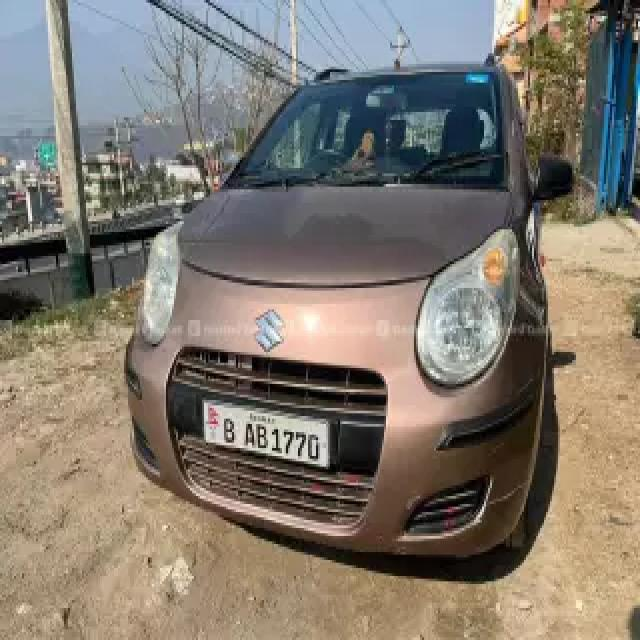License-plate: (200, 396, 332, 473)
